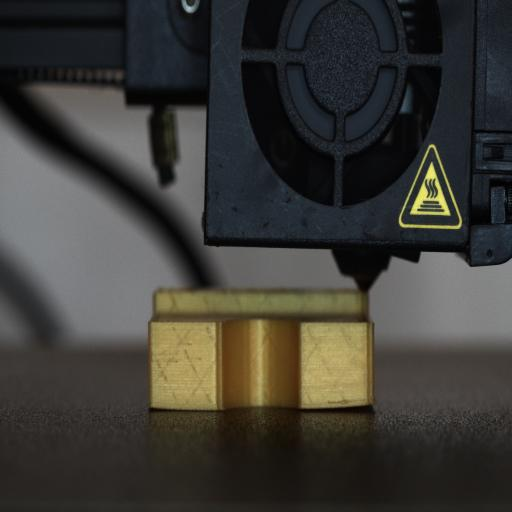warp: (317, 392, 382, 416), (146, 399, 179, 415)
